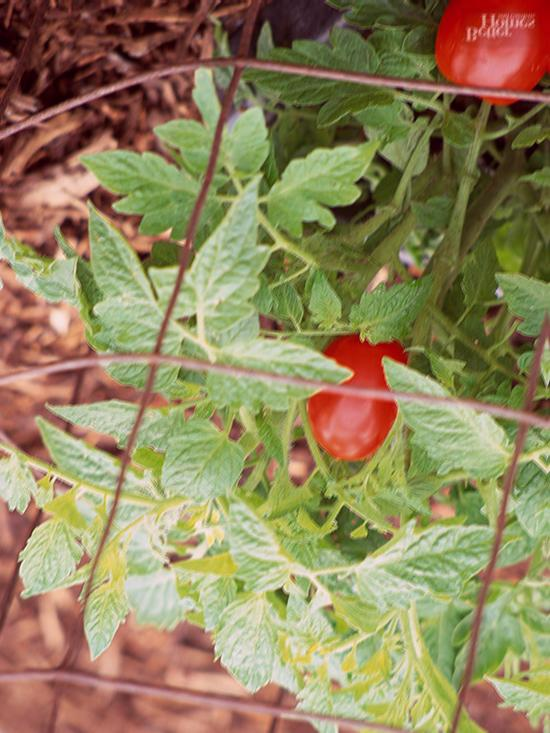Tomato leaf: (387, 360, 531, 487), (84, 199, 201, 354), (171, 184, 278, 340), (353, 512, 521, 603), (244, 33, 406, 121), (256, 132, 377, 232), (77, 147, 203, 241), (35, 414, 142, 508), (211, 588, 298, 693), (217, 337, 349, 402), (162, 414, 240, 508), (345, 273, 440, 347), (21, 517, 86, 596), (74, 565, 127, 660)
